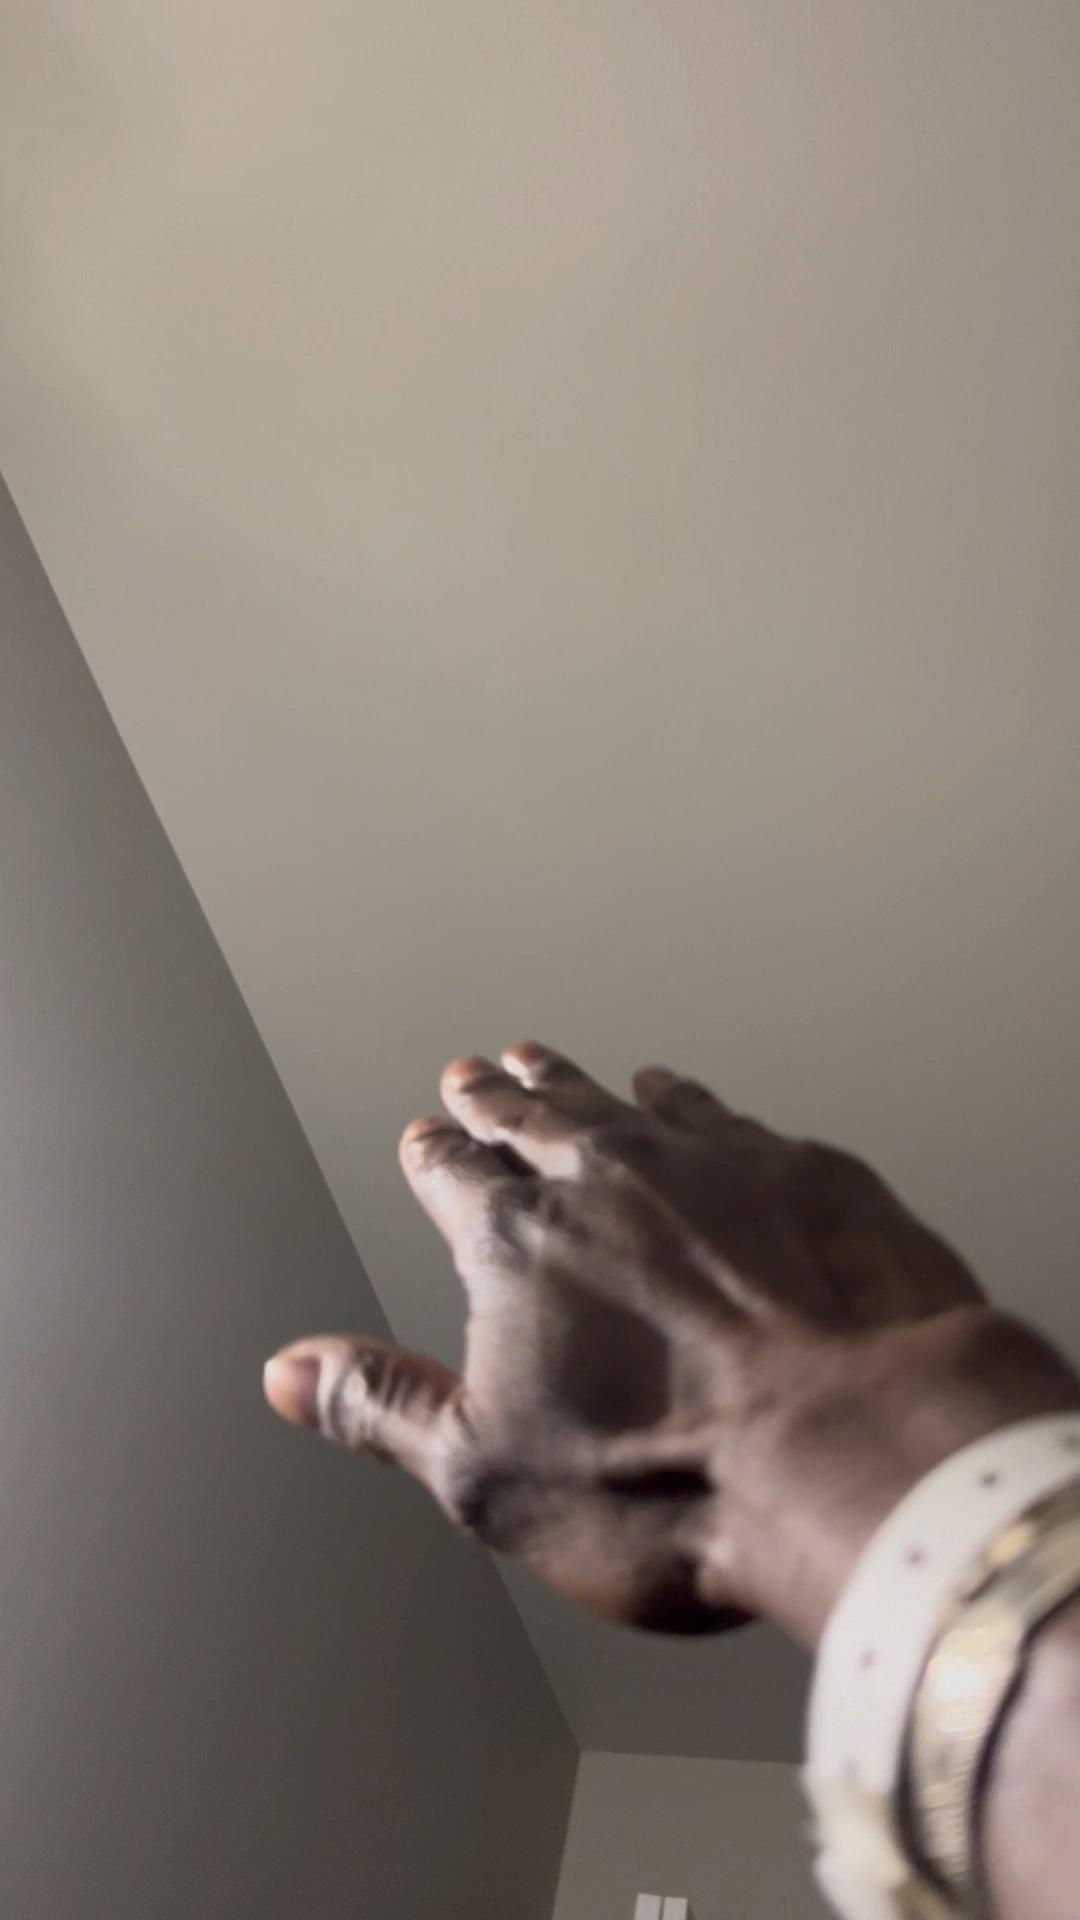Paper: (253, 1043, 982, 1634)
